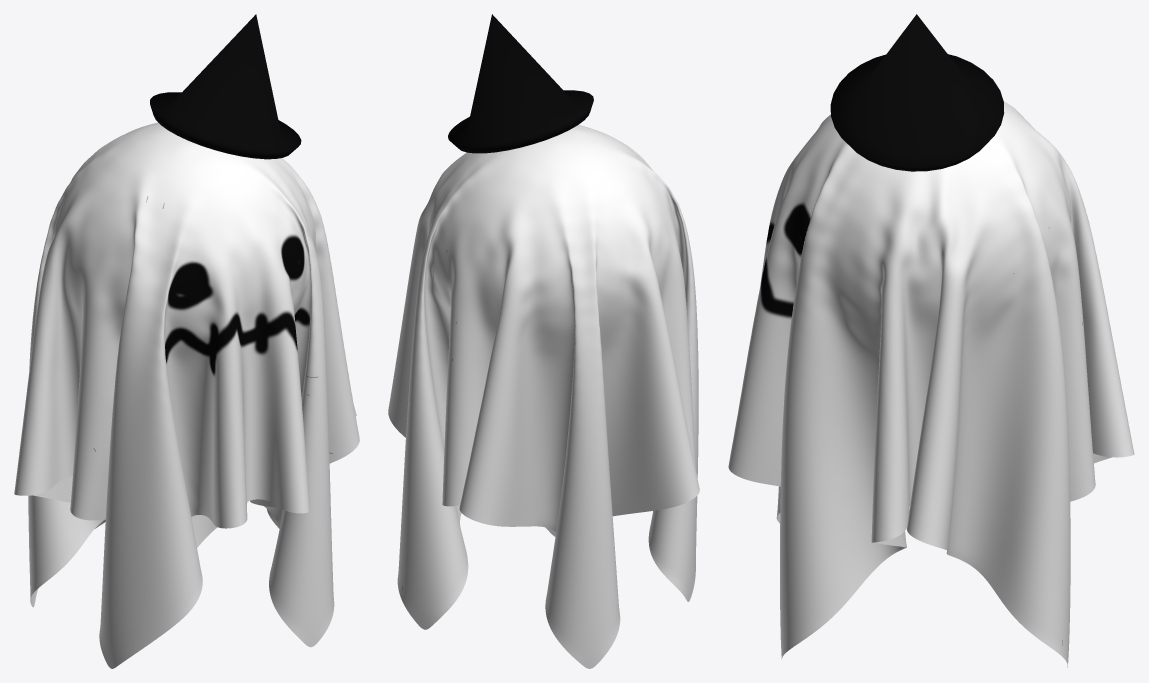
Rendered from obake.glb.
3 renders of one model, left to right at view 1: azimuth 30°, elevation 25°; view 2: azimuth 150°, elevation 25°; view 3: azimuth 270°, elevation 25°, orthographic. The views are drawn at different scales.
Parts seen in each view (by area): view 1: 平面, 円錐; view 2: 平面, 円錐; view 3: 平面, 円錐.
Boxes of the visible parts, box(x1,y1,x2,y2) form: 平面: box(14, 122, 359, 668); 円錐: box(150, 14, 301, 159); 平面: box(388, 124, 699, 668); 円錐: box(448, 14, 593, 153); 平面: box(728, 101, 1134, 667); 円錐: box(830, 14, 1004, 171).
Bounding box in the file's own units: 3.01 × 5.22 × 2.91.
2 materials, 1 textured.
